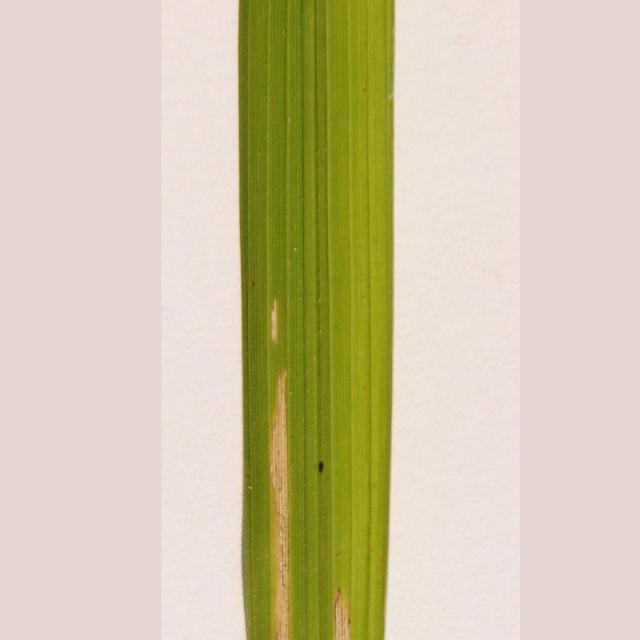leaf blight: (248, 303, 365, 640)
